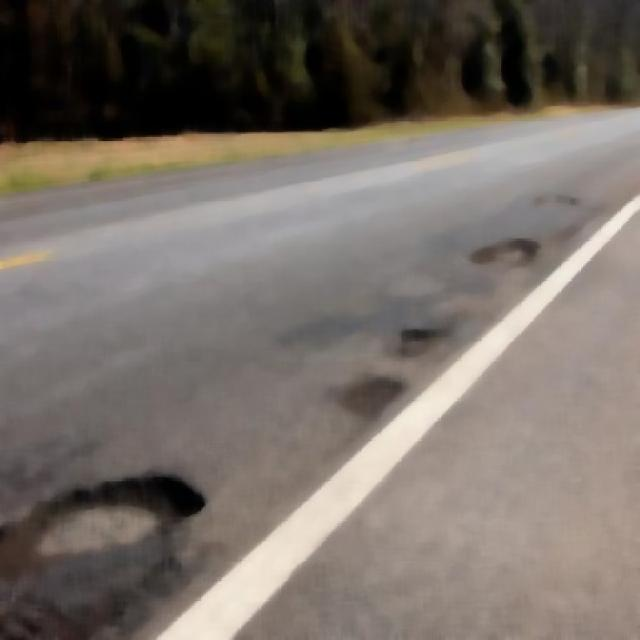Pothole: (0, 470, 218, 584), (338, 327, 414, 462), (461, 240, 556, 289)
